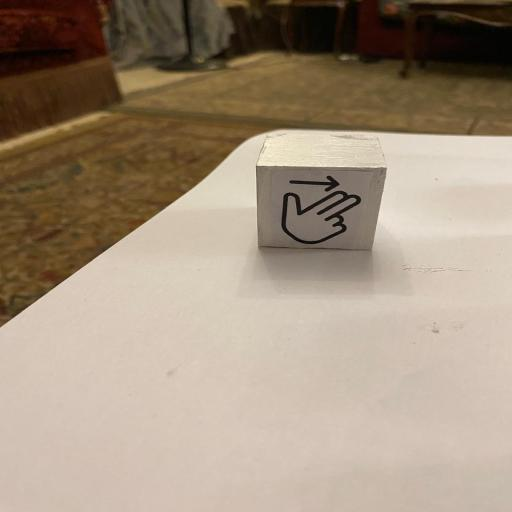RightSwipe: (253, 132, 390, 253)
